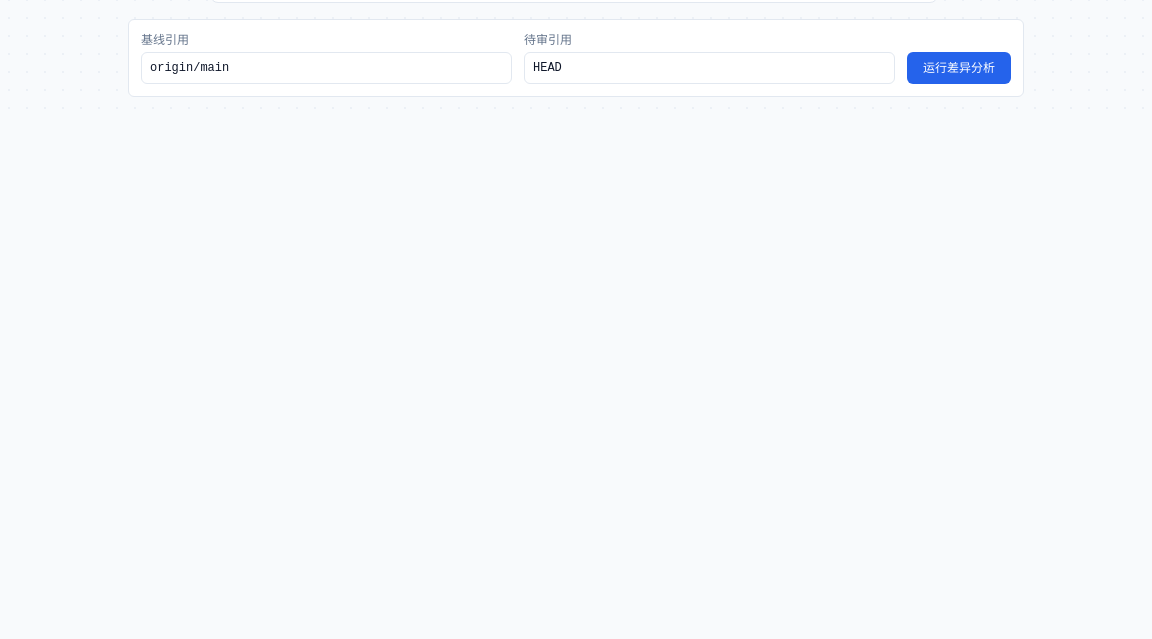
Test: ArchitectureDeltaView (v0.6.0) › runs the delta analysis and renders added/removed/broken/impact sections
Step 1. Click the button with test id "delta-run" → click(959, 68), box [907,52,1011,84]
(page scrolled)
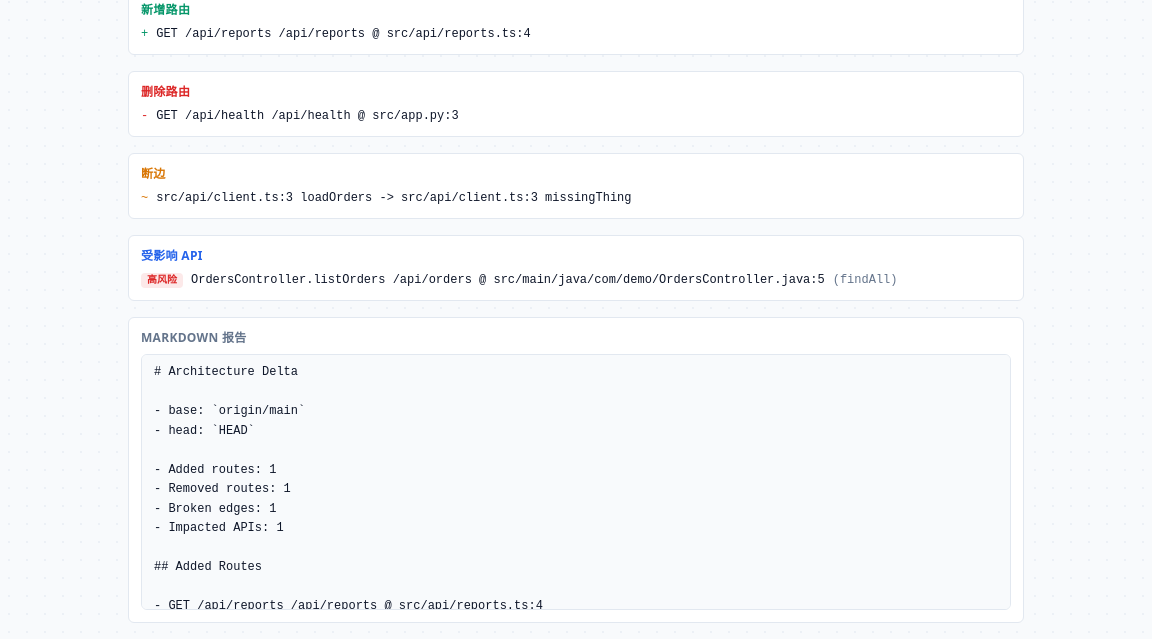
Now the list item "+GET /api/reports /api/reports @ src/api/reports.ts:4" is shown, box [141,27,531,41]
Now the list item "-GET /api/health /api/health @ src/app.py:3" is shown, box [141,109,459,123]
Now the list item "missingThing" is shown, box [545,191,632,205]
